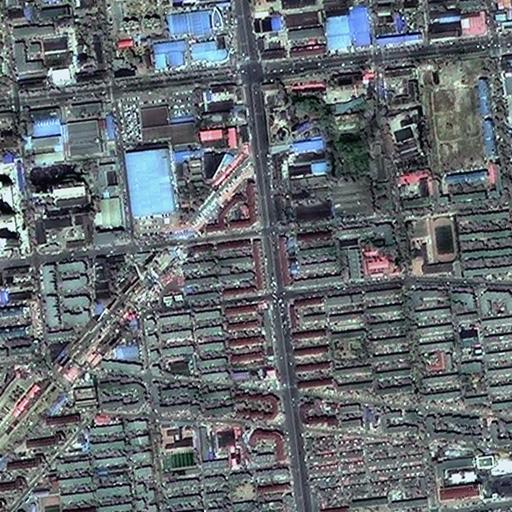school: (404, 212, 458, 277), (157, 419, 203, 473)
